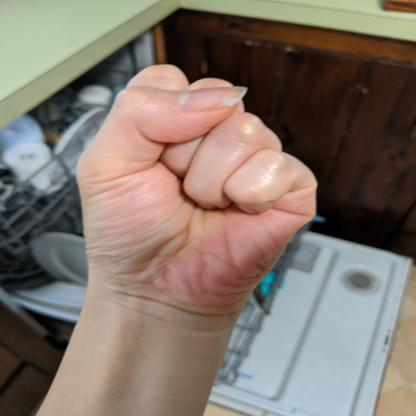S: (72, 61, 324, 328)
